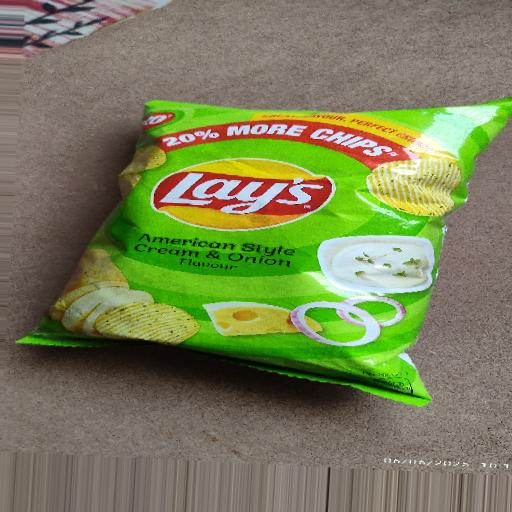Lays Green Small pack (American style cream and onion): (40, 69, 512, 432)
